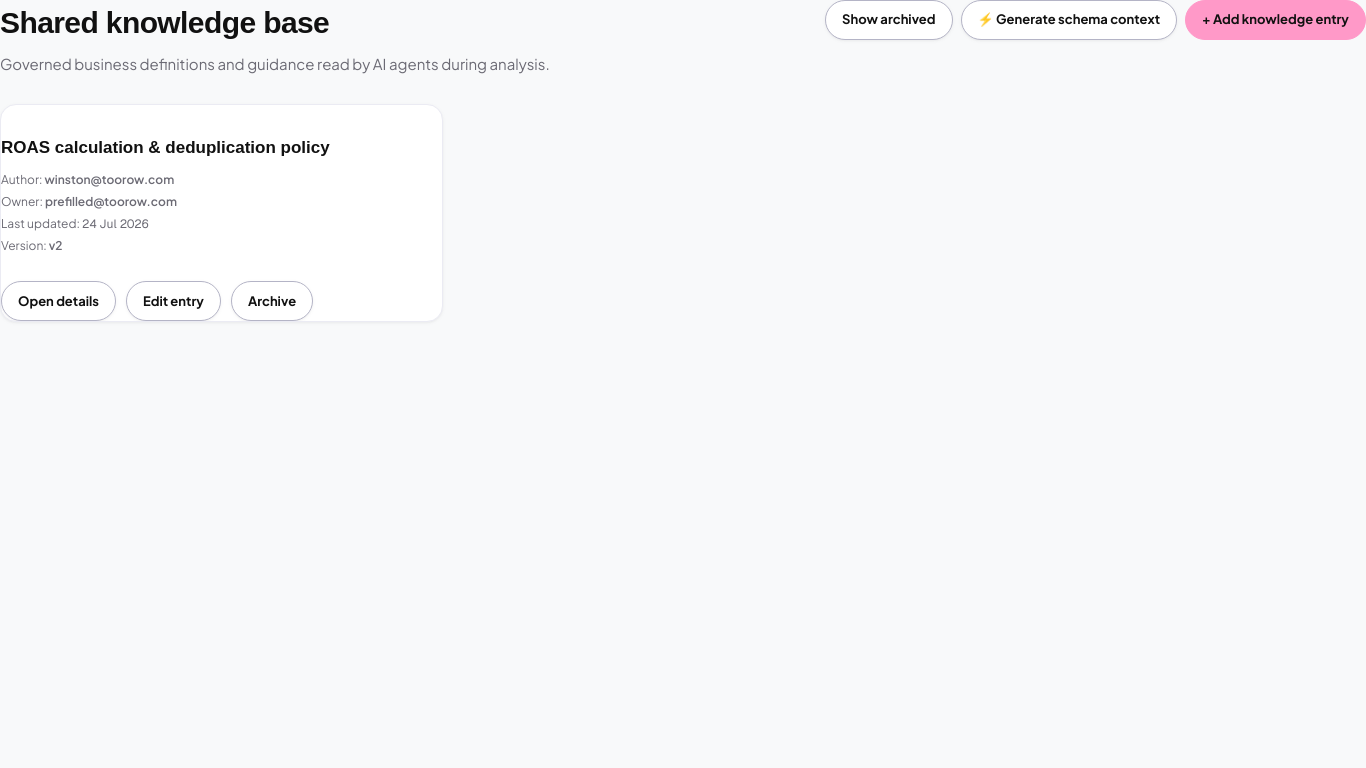
KnowledgeBasePage — owner (Story 44.11) › pre-fills the Owner input from the topic's raw owner when editing
Expected: the heading "ROAS calculation & deduplication policy" is shown, [1, 136, 330, 159]
Click the button "Edit entry" at (173, 301), box [126, 281, 221, 321]
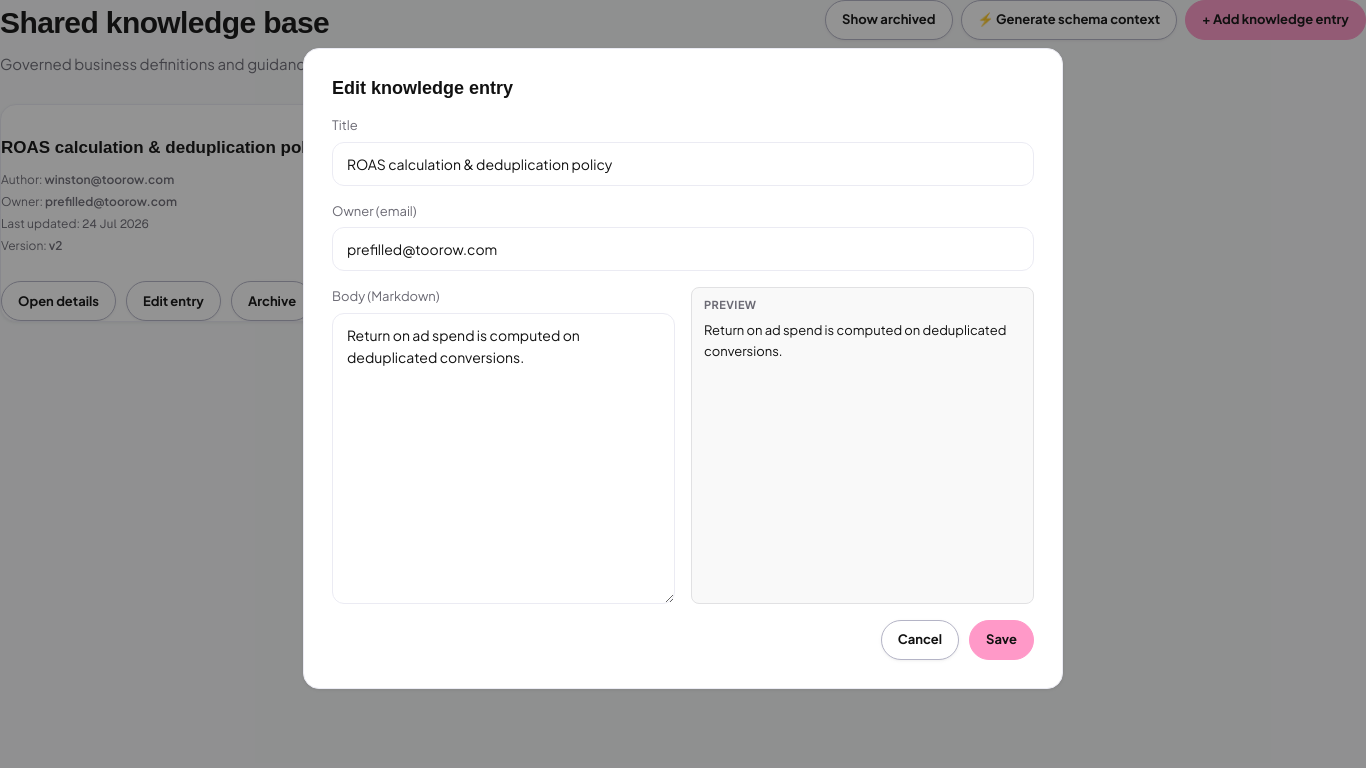
Expected: the field showing "prefilled@toorow.com" is shown, [332, 227, 1034, 271]
